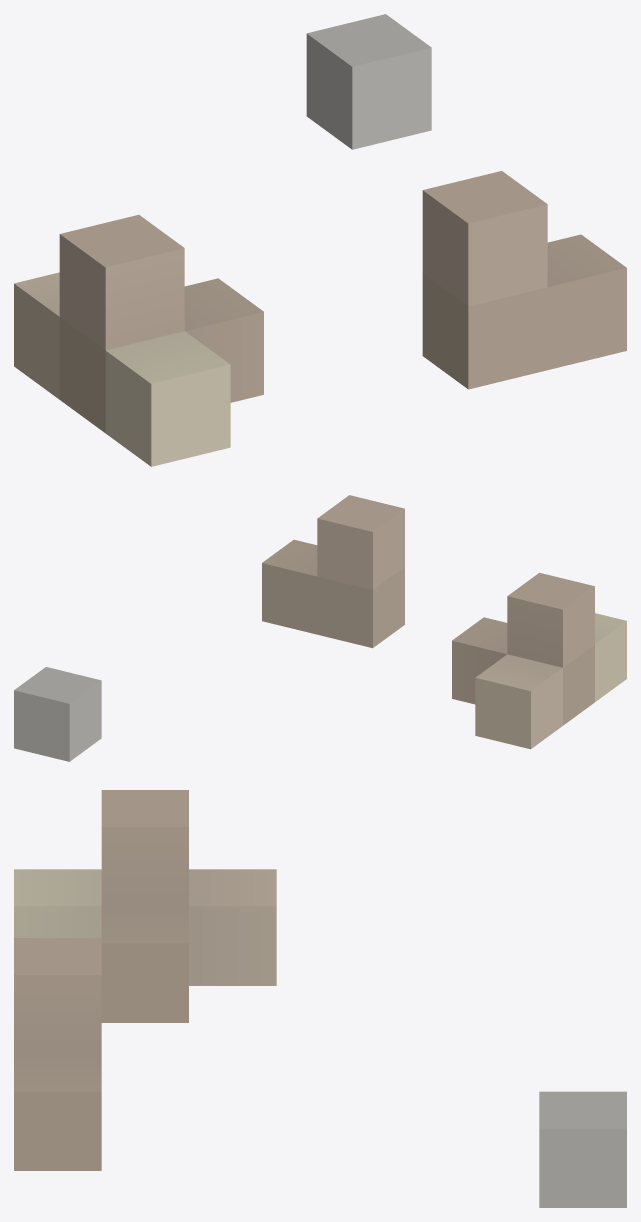
Rendered from decor_pebbles_b.glb.
3 renders of one model, top to bottom at view 1: azimuth 30°, elevation 25°; view 2: azimuth 150°, elevation 25°; view 3: azimuth 270°, elevation 25°, orthographic. The views are drawn at different scales.
Visible parts, largest first — view 1: decor_pebbles_b; view 2: decor_pebbles_b; view 3: decor_pebbles_b.
Boxes of the visible parts, box(x1,y1,x2,y2) form: decor_pebbles_b: box(14, 14, 626, 466); decor_pebbles_b: box(14, 495, 626, 761); decor_pebbles_b: box(14, 790, 626, 1207).
Bounding box in the file's own units: 0.4375 × 0.125 × 0.4375.
